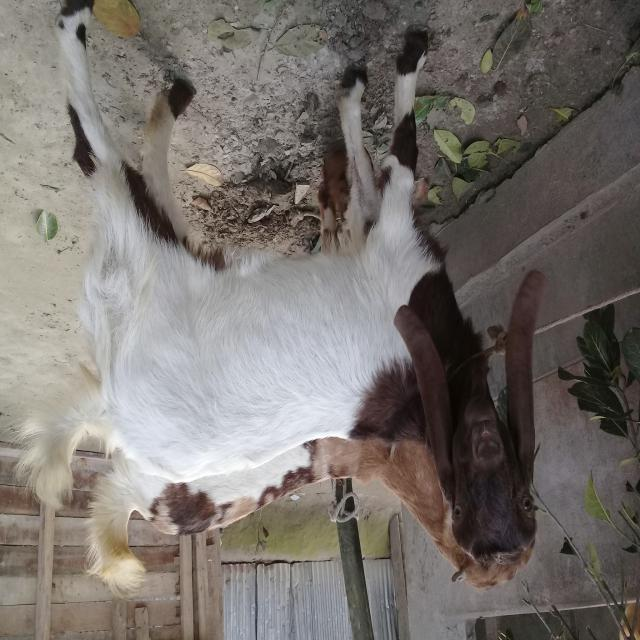Goat: (16, 3, 546, 581)
